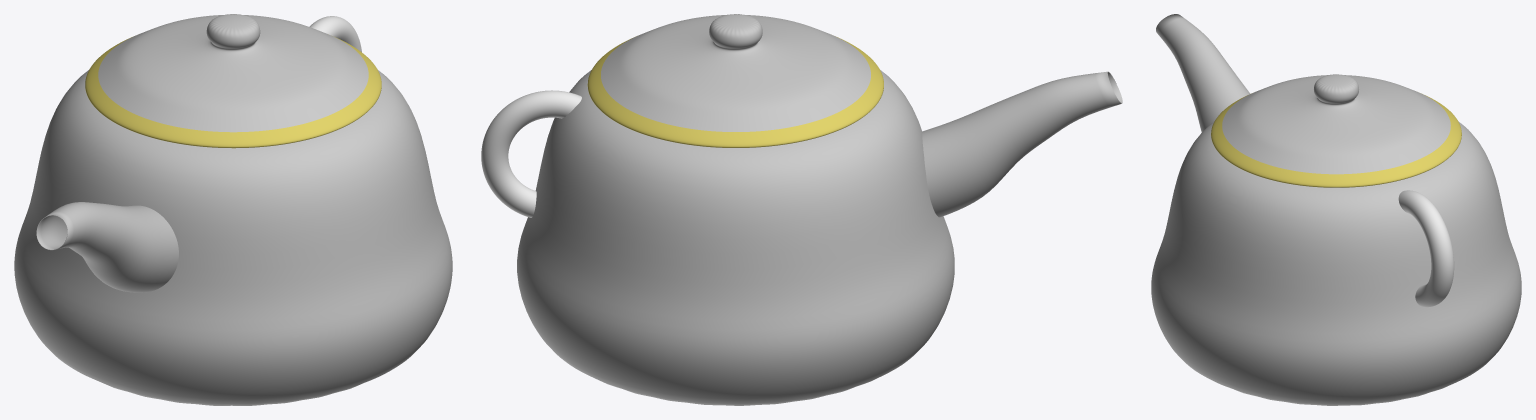
Rendered from Chaleira.fbx.
3 views of the same model, side by side, from view 1: azimuth 30°, elevation 25°; view 2: azimuth 150°, elevation 25°; view 3: azimuth 270°, elevation 25° (orthographic). The views are drawn at different scales.
Visible parts, largest first — view 1: Bule, Cylinder.009, Cylinder.008, Torus; view 2: Bule, Cylinder.009, Cylinder.008, Torus; view 3: Bule, Cylinder.009, Cylinder.008, Torus.
Boxes of the visible parts, x1,y1,x2,y2 form: Bule: (14,70,452,405); Cylinder.009: (85,14,381,148); Cylinder.008: (36,202,178,292); Torus: (309,16,361,51); Bule: (517,70,954,405); Cylinder.009: (587,14,883,147); Cylinder.008: (922,71,1122,217); Torus: (481,90,581,217); Bule: (1151,121,1521,405); Cylinder.009: (1211,74,1461,187); Cylinder.008: (1156,14,1250,132); Torus: (1398,190,1454,307).
Bounding box in the file's own units: 232 × 149 × 184.
